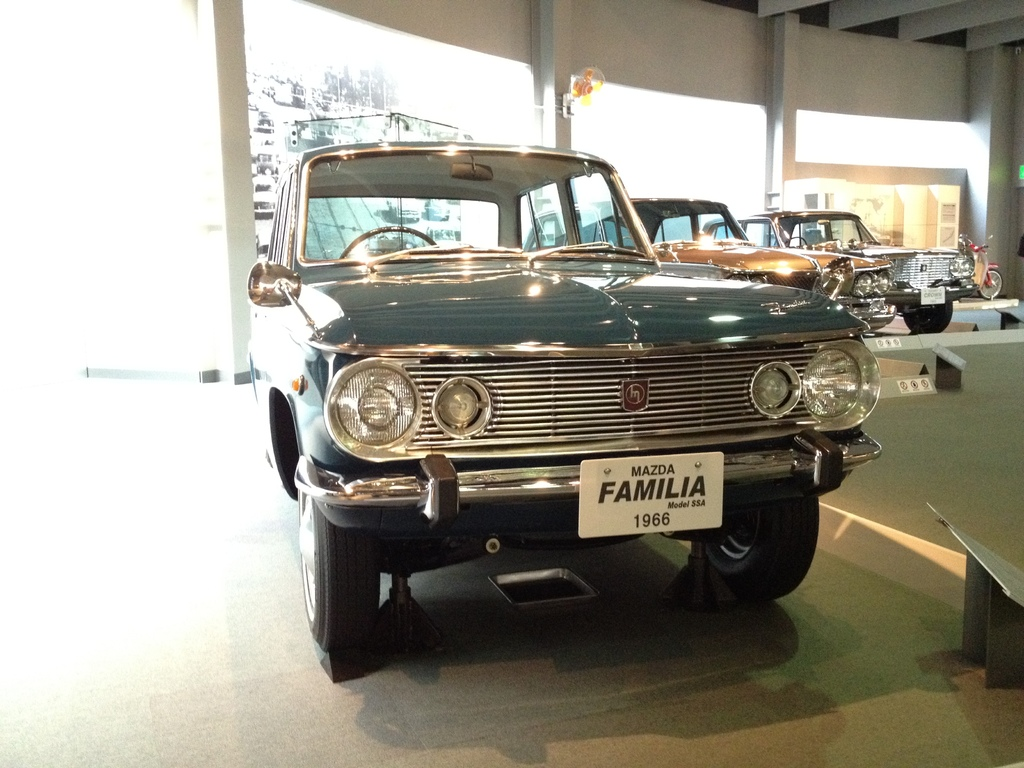Car: (244, 137, 883, 652), (524, 202, 900, 328), (698, 214, 978, 330)
